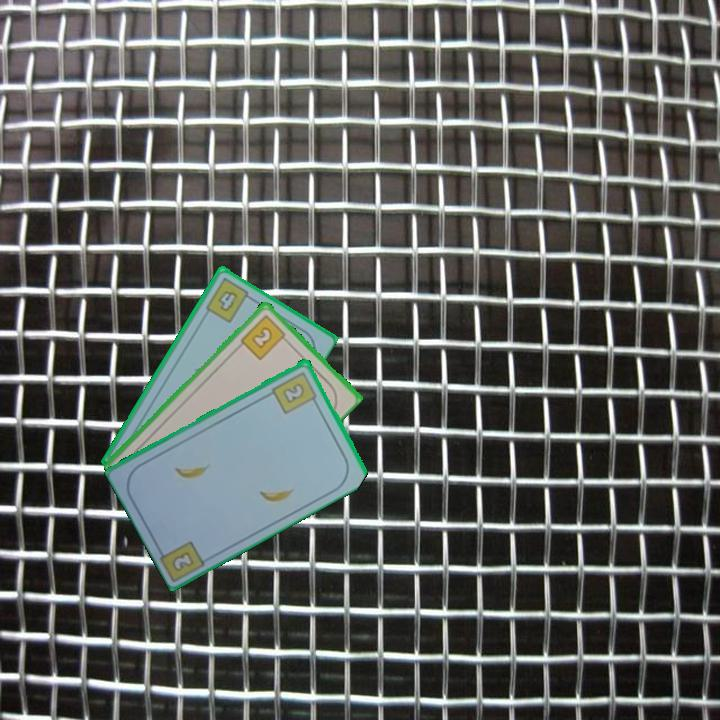2b: (237, 311, 292, 362), (269, 367, 320, 416), (168, 547, 197, 574)
4b: (201, 274, 256, 326)
